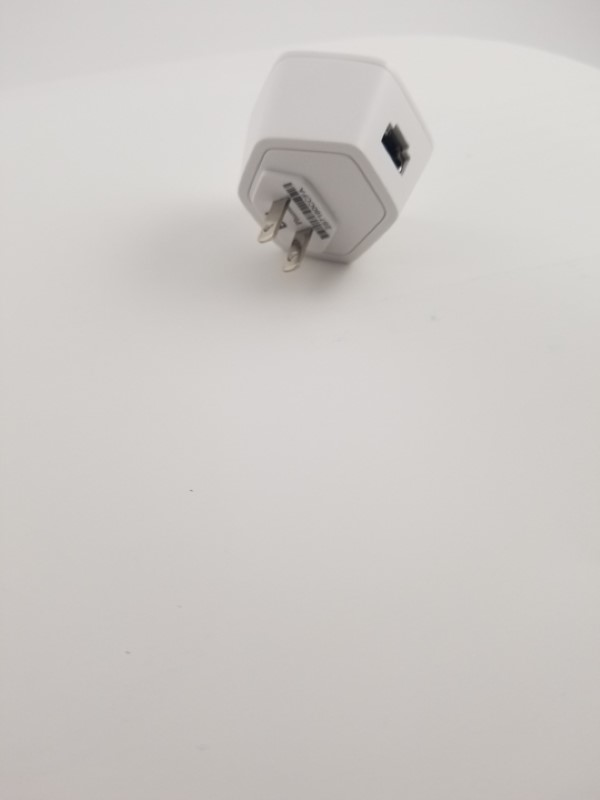pod: (237, 47, 432, 277)
